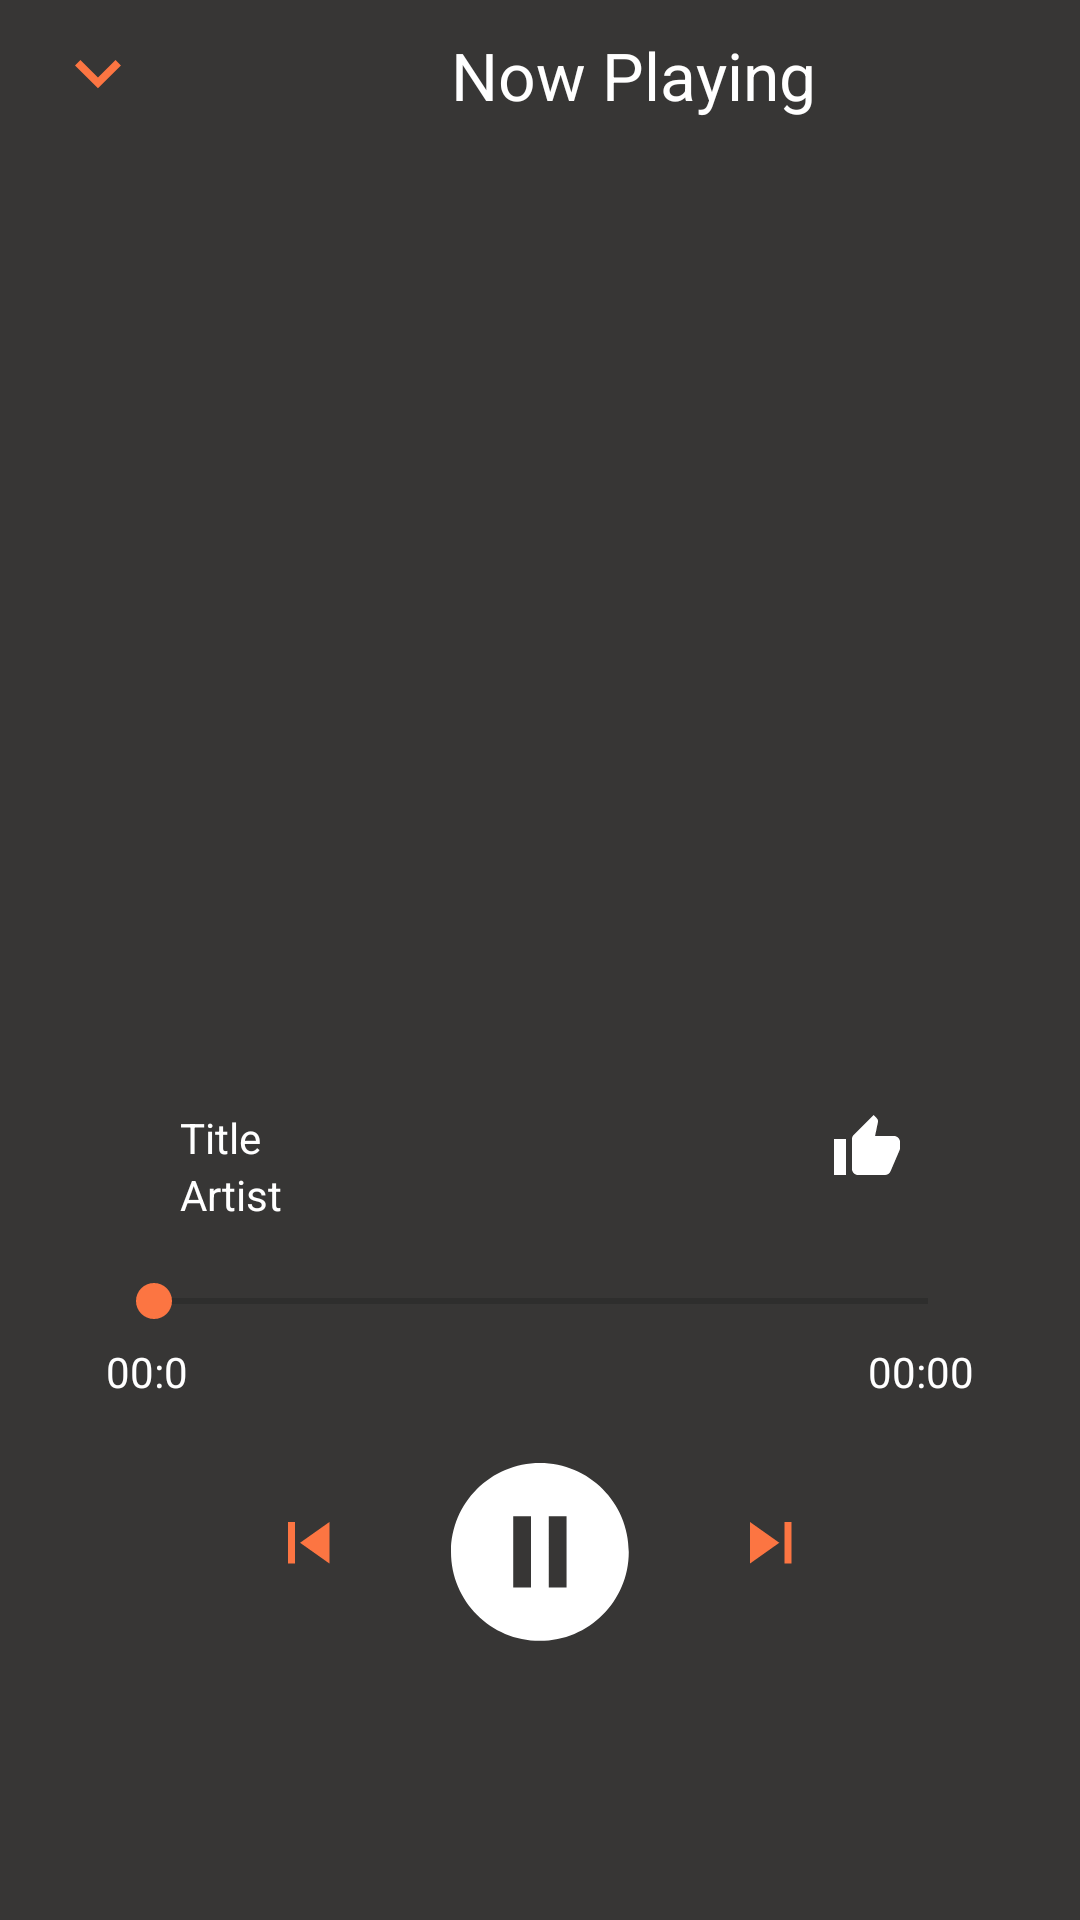

Locate icon controls on the screen. Image size 1080w x 1920h, boxes as (left=x1, top=y1, right=x2, bottom=y2).
expand more: (left=75, top=60, right=121, bottom=88)
pause circle: (left=451, top=1463, right=629, bottom=1641)
skip next: (left=750, top=1522, right=792, bottom=1564)
skip previous: (left=288, top=1522, right=330, bottom=1564)
thumb up: (left=834, top=1115, right=900, bottom=1175)
